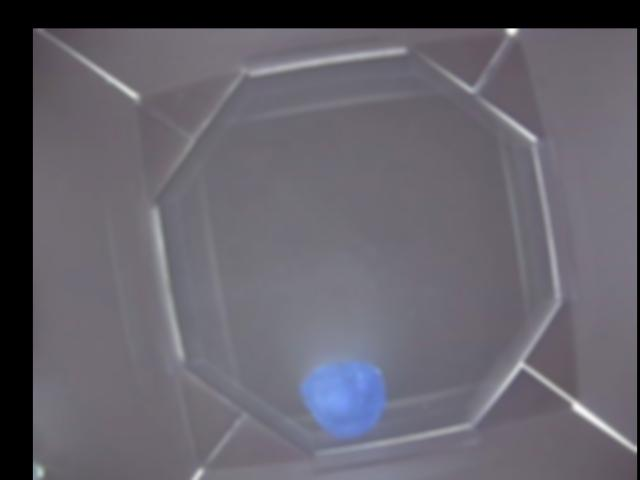Potato: (303, 358, 390, 439)
